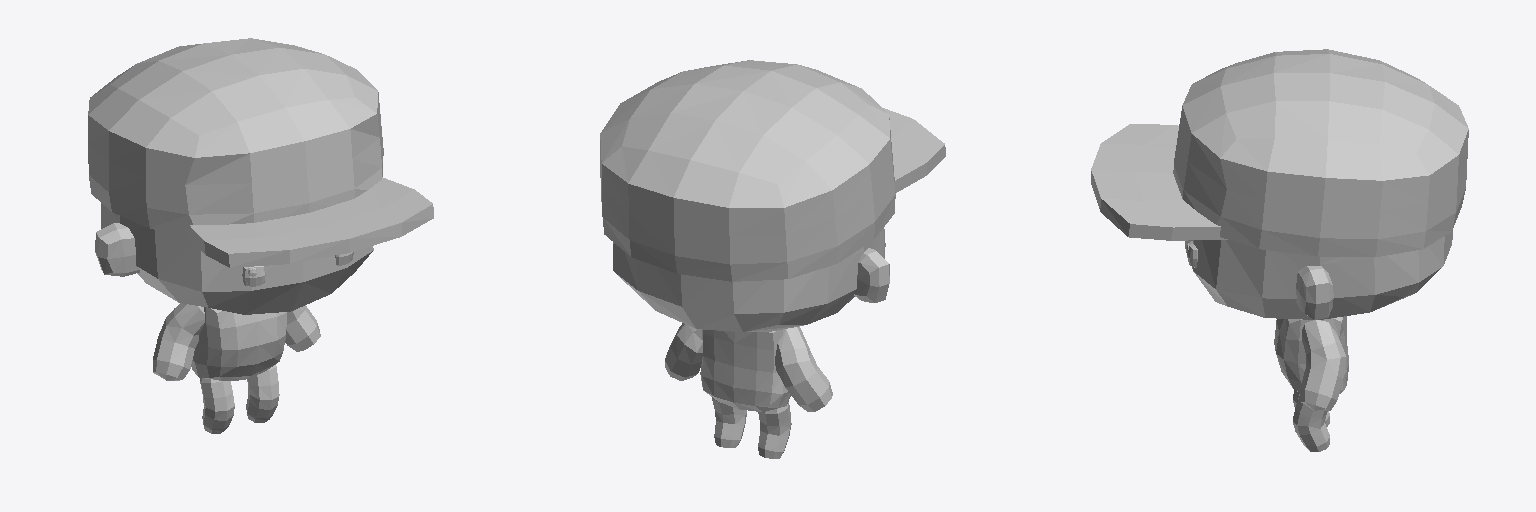
Rendered from idle_0047.obj.
The picture shows the model from 3 angles: view 1: azimuth 30°, elevation 25°; view 2: azimuth 150°, elevation 25°; view 3: azimuth 270°, elevation 25°; orthographic projection.
Visible parts, largest first — view 1: Object_41, Object_42, Object_36, Object_44, Object_38; view 2: Object_41, Object_36, Object_44, Object_42; view 3: Object_41, Object_36, Object_42, Object_44.
Boxes of the visible parts, box(x1,y1,x2,y2) form: Object_41: box(88, 38, 383, 235); Object_42: box(185, 114, 433, 267); Object_36: box(95, 203, 373, 314); Object_44: box(153, 303, 320, 433); Object_38: box(242, 252, 353, 286); Object_41: box(600, 60, 895, 281); Object_36: box(613, 228, 889, 331); Object_44: box(665, 323, 832, 458); Object_42: box(883, 108, 945, 192); Object_41: box(1182, 49, 1468, 256); Object_36: box(1185, 231, 1452, 319); Object_42: box(1091, 106, 1227, 240); Object_44: box(1274, 316, 1348, 451).
Size of the model in its own units: 0.9691 by 1.21 by 1.13.